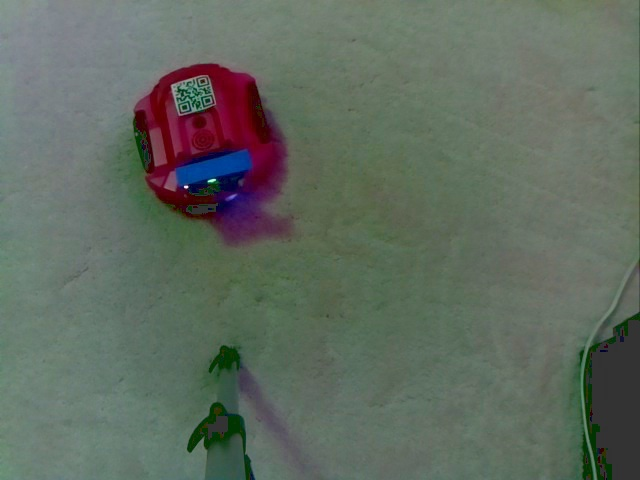board: (172, 144, 249, 194)
chassis: (129, 56, 275, 211)
